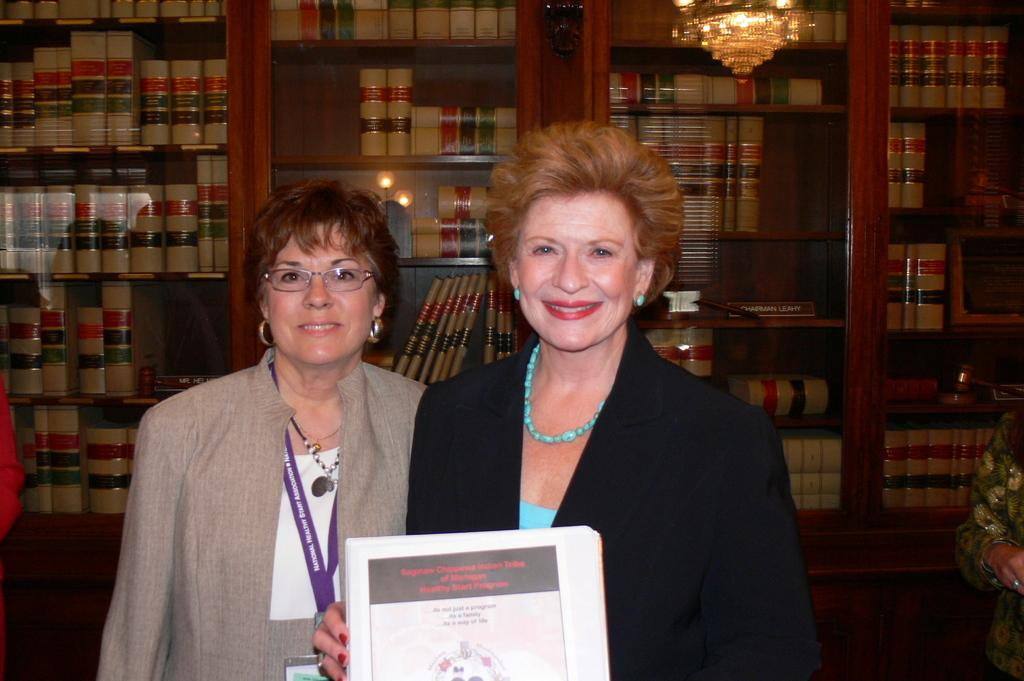Computer-monitor: (338, 522, 614, 678)
